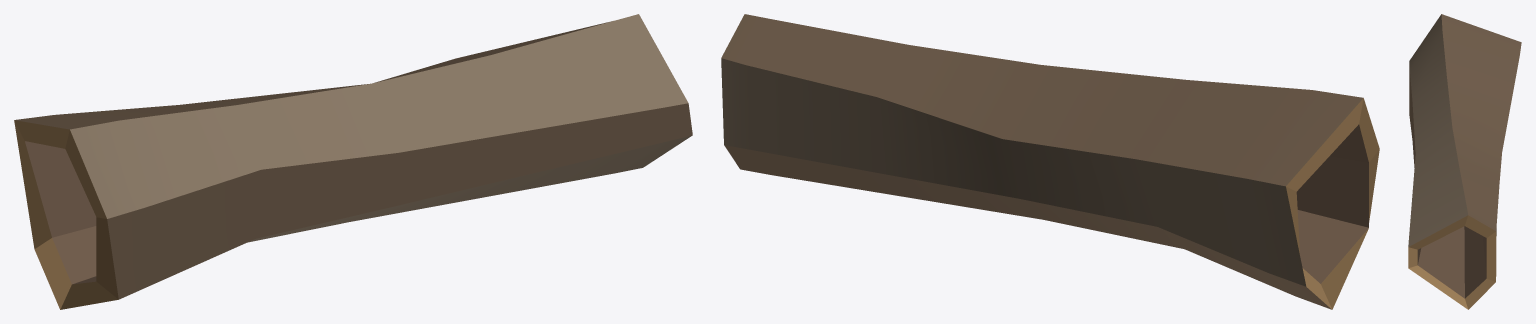
Rendered from log.fbx.
The picture shows the model from 3 angles, left to right: view 1: azimuth 30°, elevation 25°; view 2: azimuth 150°, elevation 25°; view 3: azimuth 270°, elevation 25°; orthographic projection. The views are drawn at different scales.
Parts seen in each view (by area): view 1: Log; view 2: Log; view 3: Log.
Part boxes in pixels (<box>): Log: <box>14,14,692,309</box>; Log: <box>721,14,1379,309</box>; Log: <box>1408,14,1521,309</box>.
Bounding box in the file's own units: 127 × 40.7 × 34.66.
